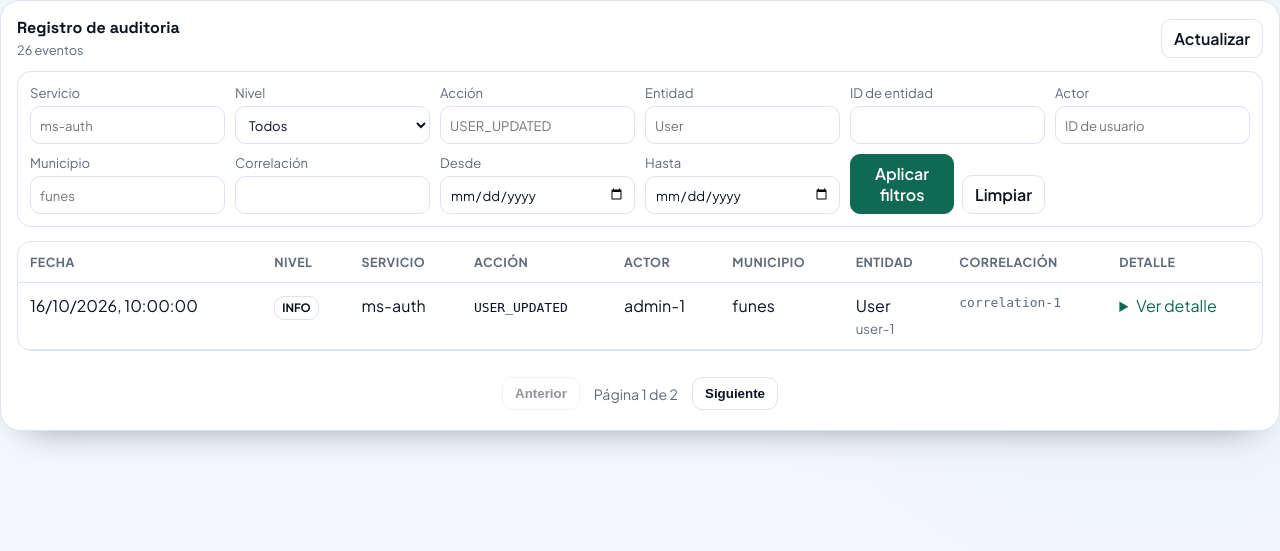
Scenario: AuditLogsPanel › loads a page and reveals metadata only when requested
The width and height of the screenshot is (1280, 551).
Expected: the text "USER_UPDATED" is shown, [474,300,568,315]
Expected: the text "admin-1" is shown, [612,282,720,350]
What coordinates should you click on to do the following:
click the heading "Ver detalle"
I would click on:
 (1177, 306)
Its box is [1136,295,1217,316].
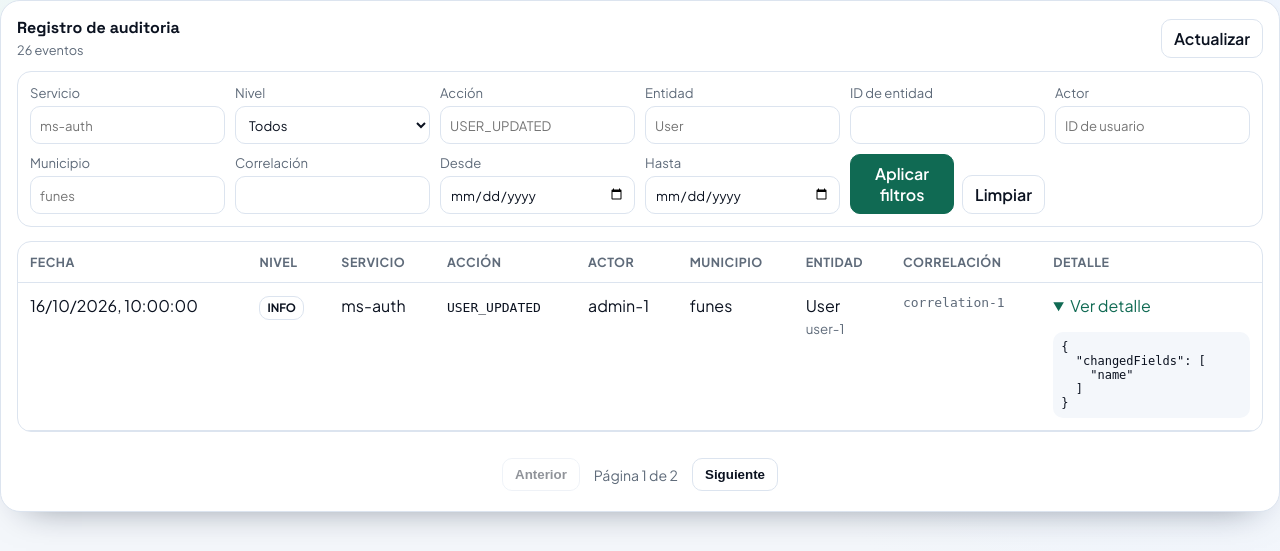
Expected: the text "{ \"changedFields\": [ \"name\" ] }" is shown, [1053,332,1250,418]
